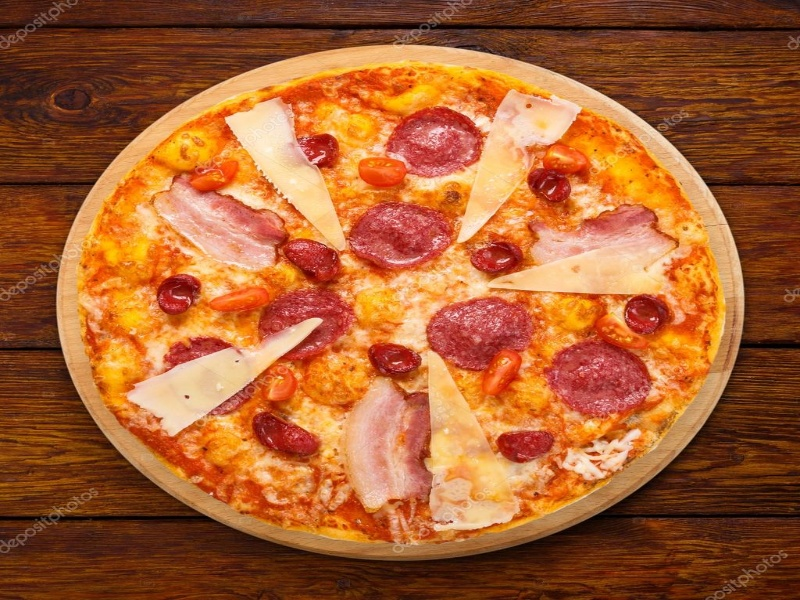pepperonis: (422, 286, 536, 372), (552, 339, 654, 421), (351, 196, 457, 272), (390, 104, 487, 175), (261, 287, 348, 357)
